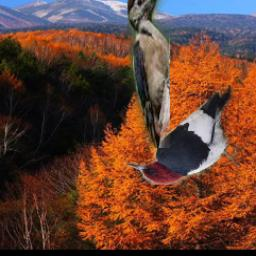Woodpecker: (119, 86, 240, 186), (127, 0, 170, 148)
